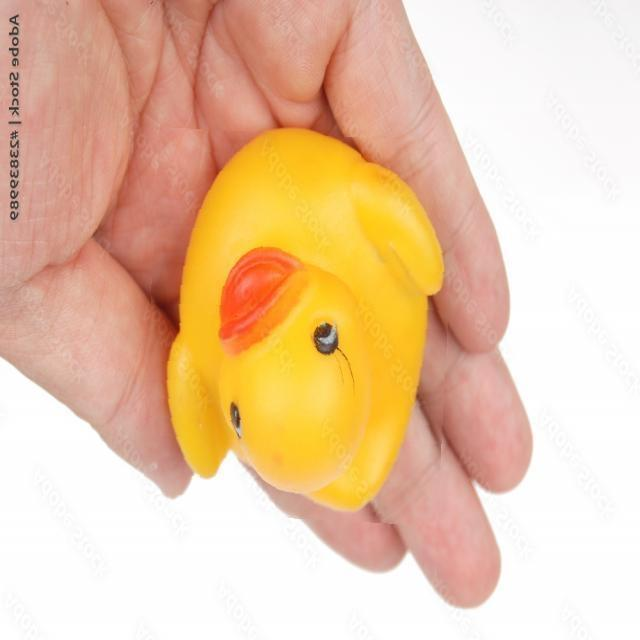rubber-duck: (167, 128, 441, 507)
